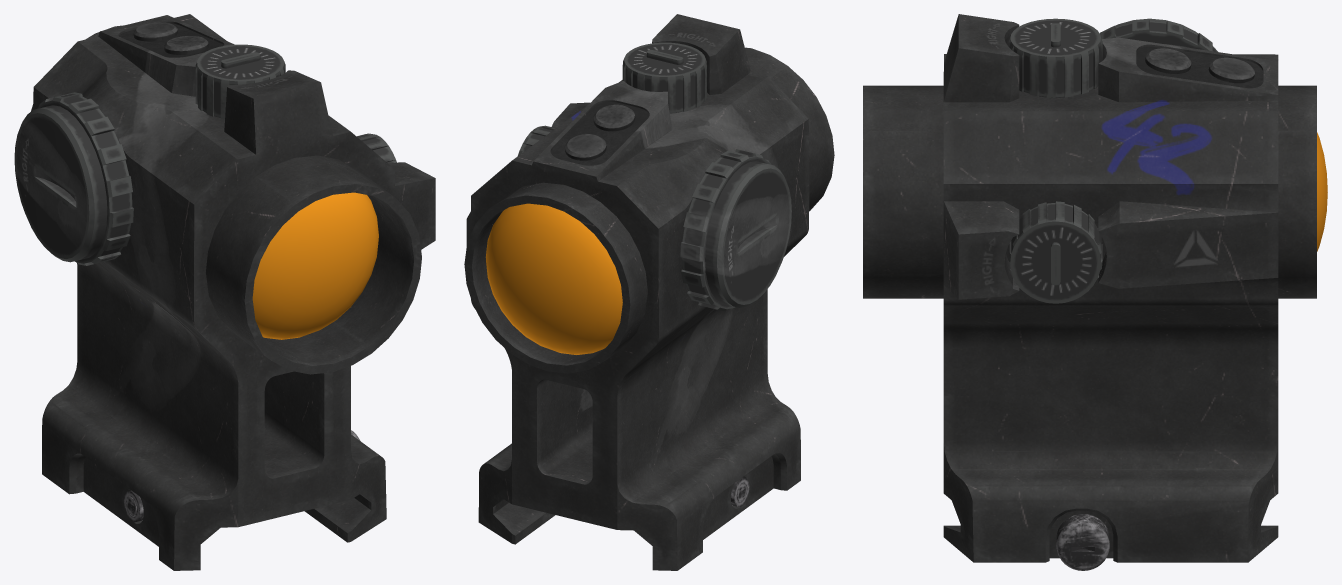
Rendered from ARScope.gltf.
3 renders of one model, left to right at view 1: azimuth 30°, elevation 25°; view 2: azimuth 150°, elevation 25°; view 3: azimuth 270°, elevation 25°, orthographic. The views are drawn at different scales.
Parts seen in each view (by area): view 1: Cylinder.001; view 2: Cylinder.001; view 3: Cylinder.001.
Boxes of the visible parts, left/top/right/bottom form: Cylinder.001: left=14, top=14, right=435, bottom=570; Cylinder.001: left=464, top=14, right=834, bottom=570; Cylinder.001: left=863, top=14, right=1327, bottom=570.
Bounding box in the file's own units: 0.0463 × 0.0698 × 0.0615.
Materials: 5 (5 with a texture image).
